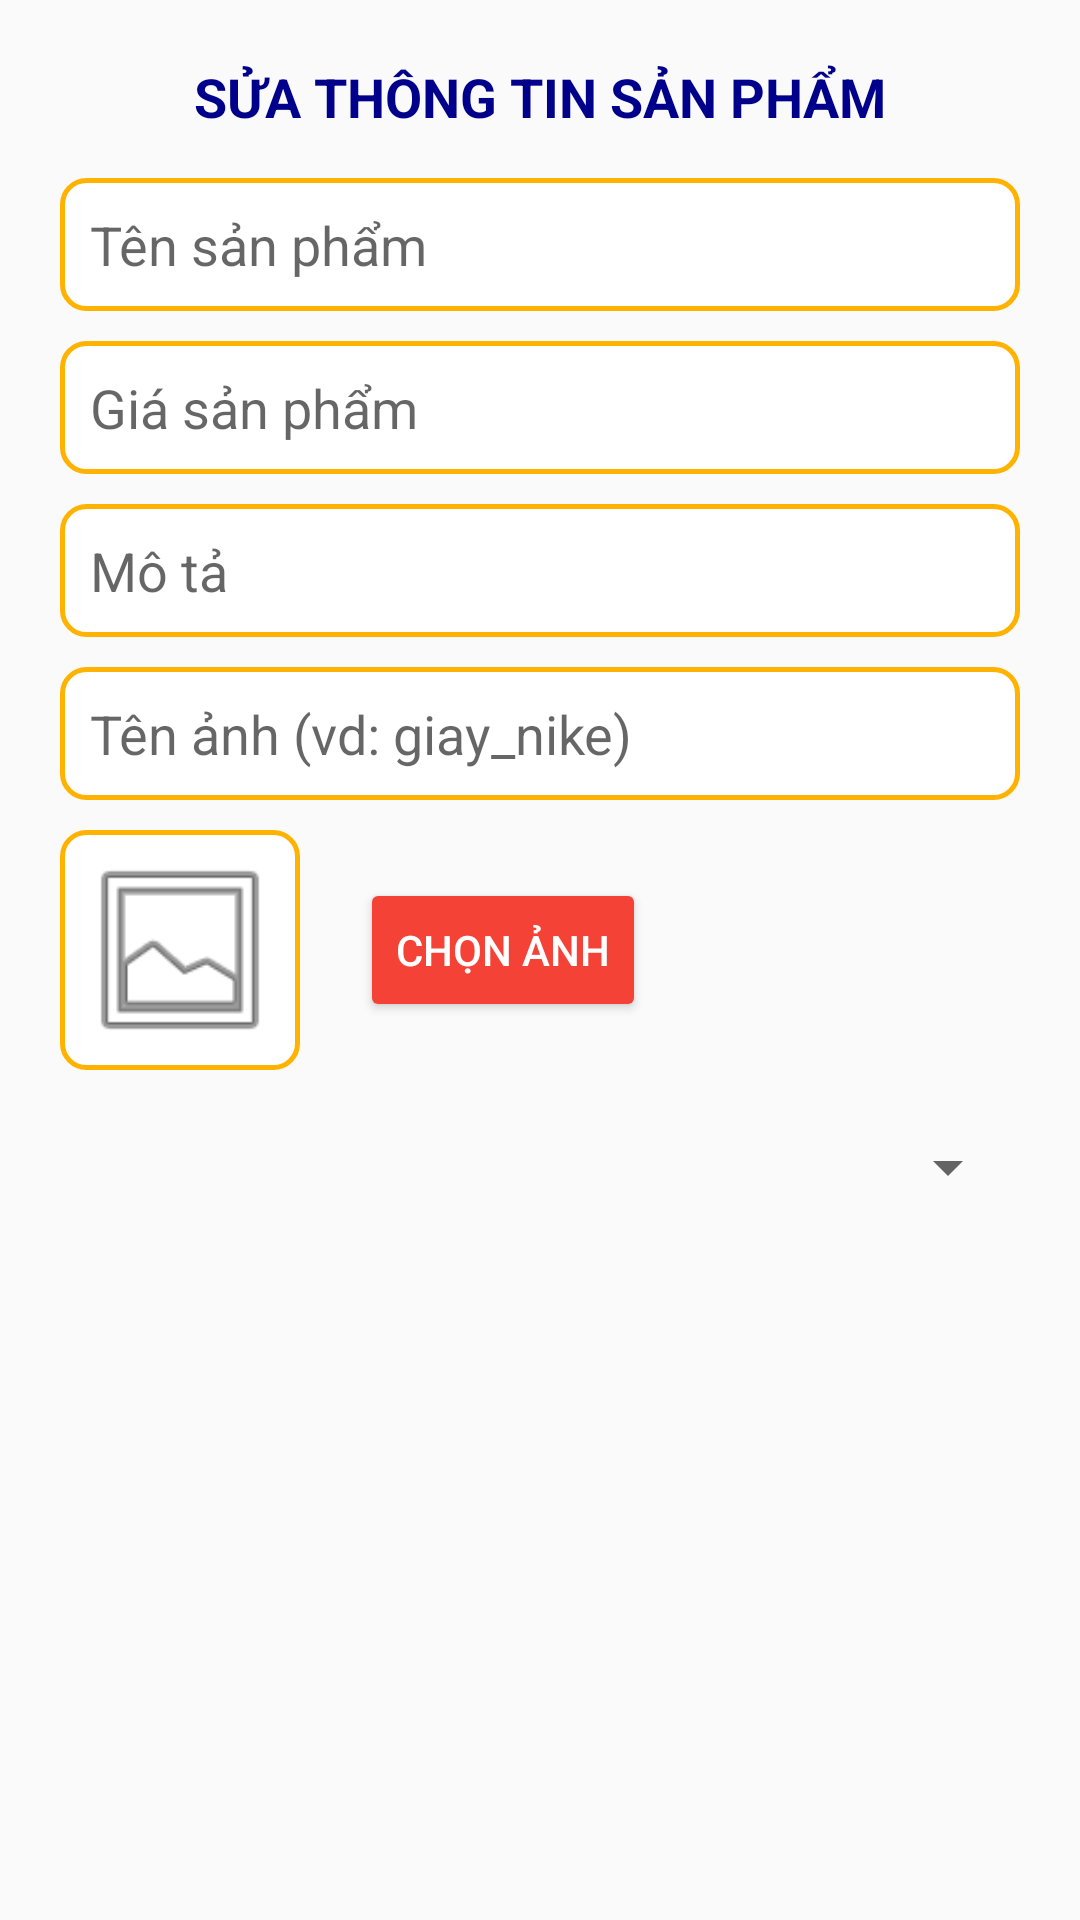

Screen size 1080x1920. Icon name, then its center in pixels as (x=x, y=y):
gallery: (x=180, y=950)
